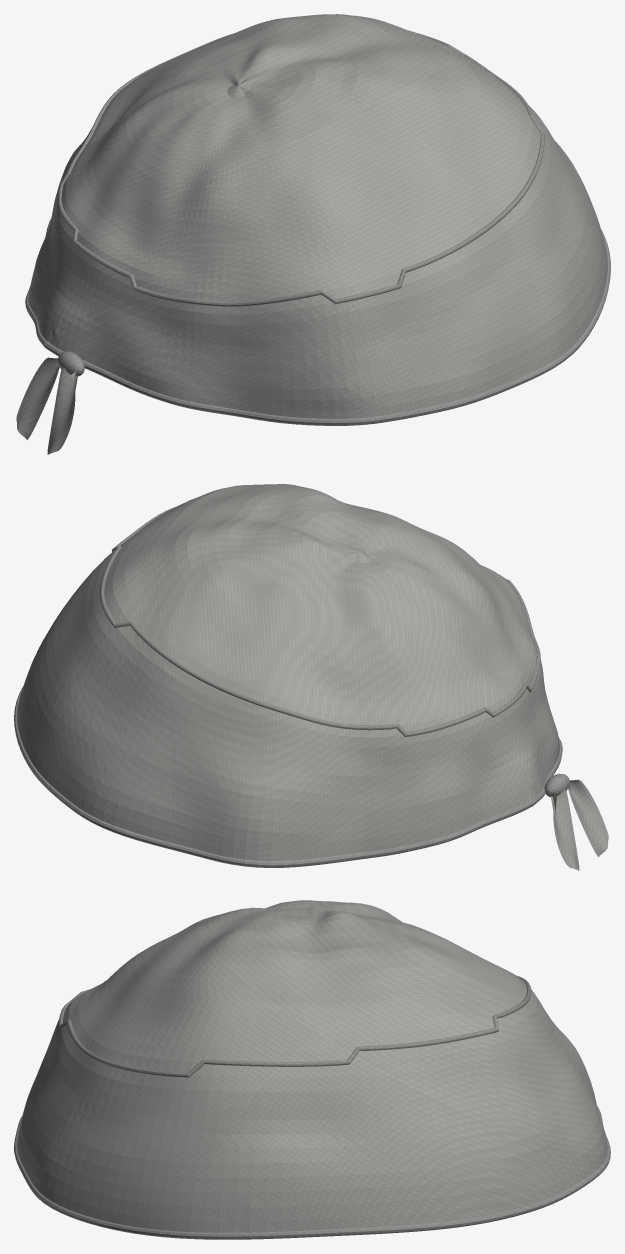
Rendered from side_ebisu_headcloth.glb.
The picture shows the model from 3 angles, top to bottom: view 1: azimuth 30°, elevation 25°; view 2: azimuth 150°, elevation 25°; view 3: azimuth 270°, elevation 25°; orthographic projection. The views are drawn at different scales.
Parts seen in each view (by area): view 1: wash_dyed_linen, sewn_fold; view 2: wash_dyed_linen, sewn_fold; view 3: wash_dyed_linen, sewn_fold.
Part boxes in pixels (x1,y1,x2,y2): wash_dyed_linen: (16,14,607,454); sewn_fold: (25,31,610,425); wash_dyed_linen: (17,484,608,870); sewn_fold: (14,507,569,867); wash_dyed_linen: (17,900,607,1232); sewn_fold: (14,976,610,1239).
Bounding box in the file's own units: 16.7 × 8.91 × 16.24.
3 materials, 3 textured.
